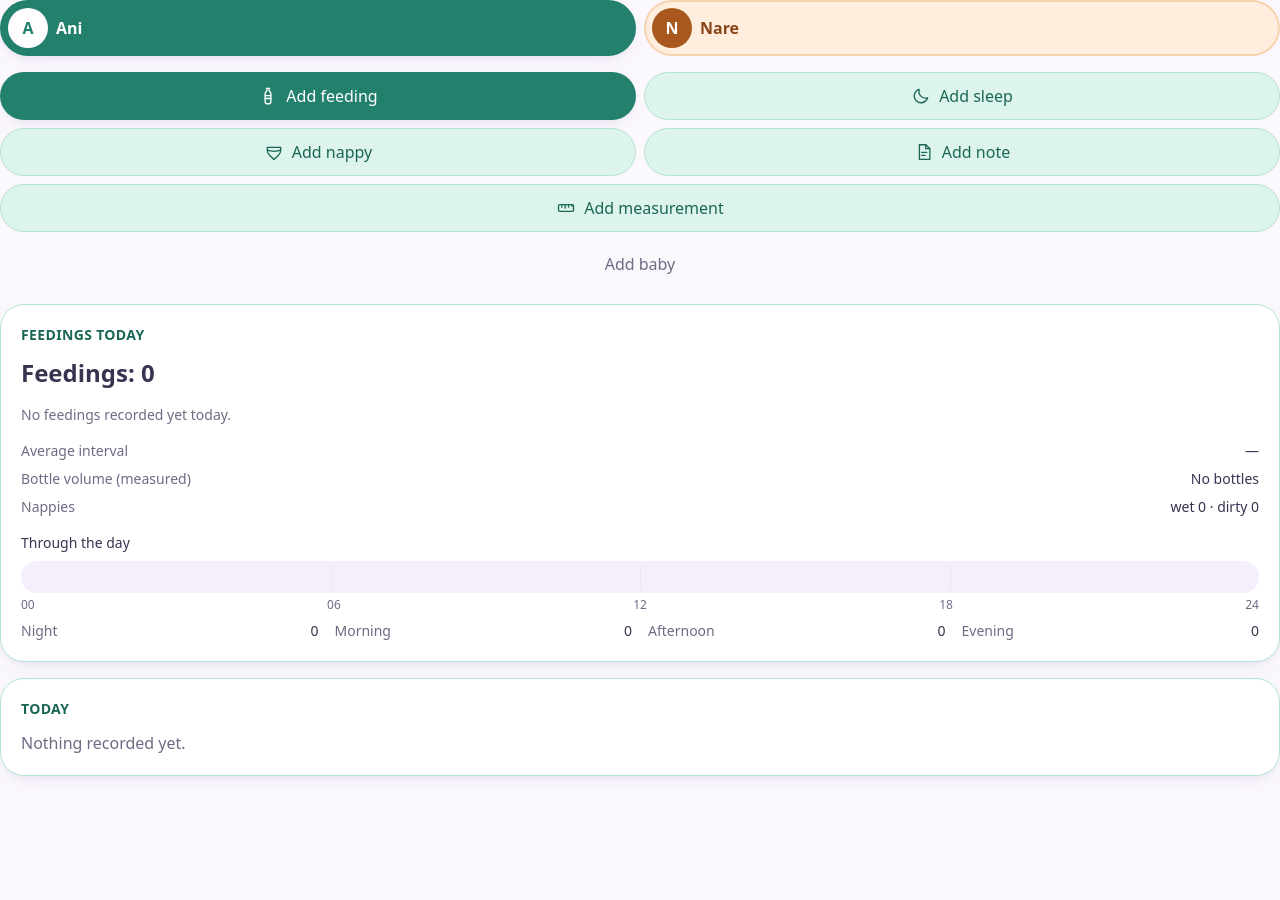
Test case: today’s day scope › shows an event created today once the list is refetched
Click the button "Add note" at [962, 152], box [644, 128, 1279, 176]
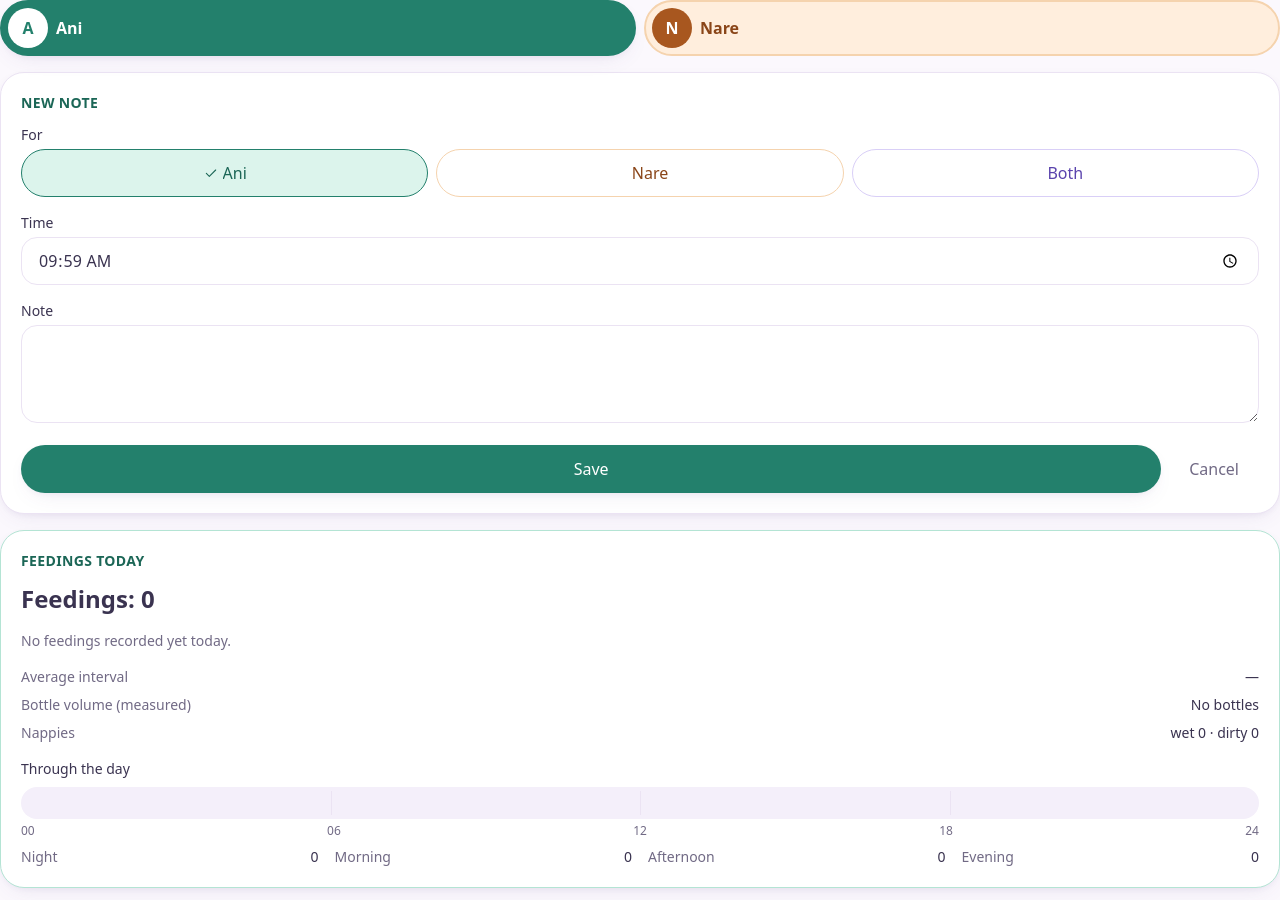
Type "Slept well" into the text box labelled "Note" at [640, 374], box [21, 325, 1259, 423]
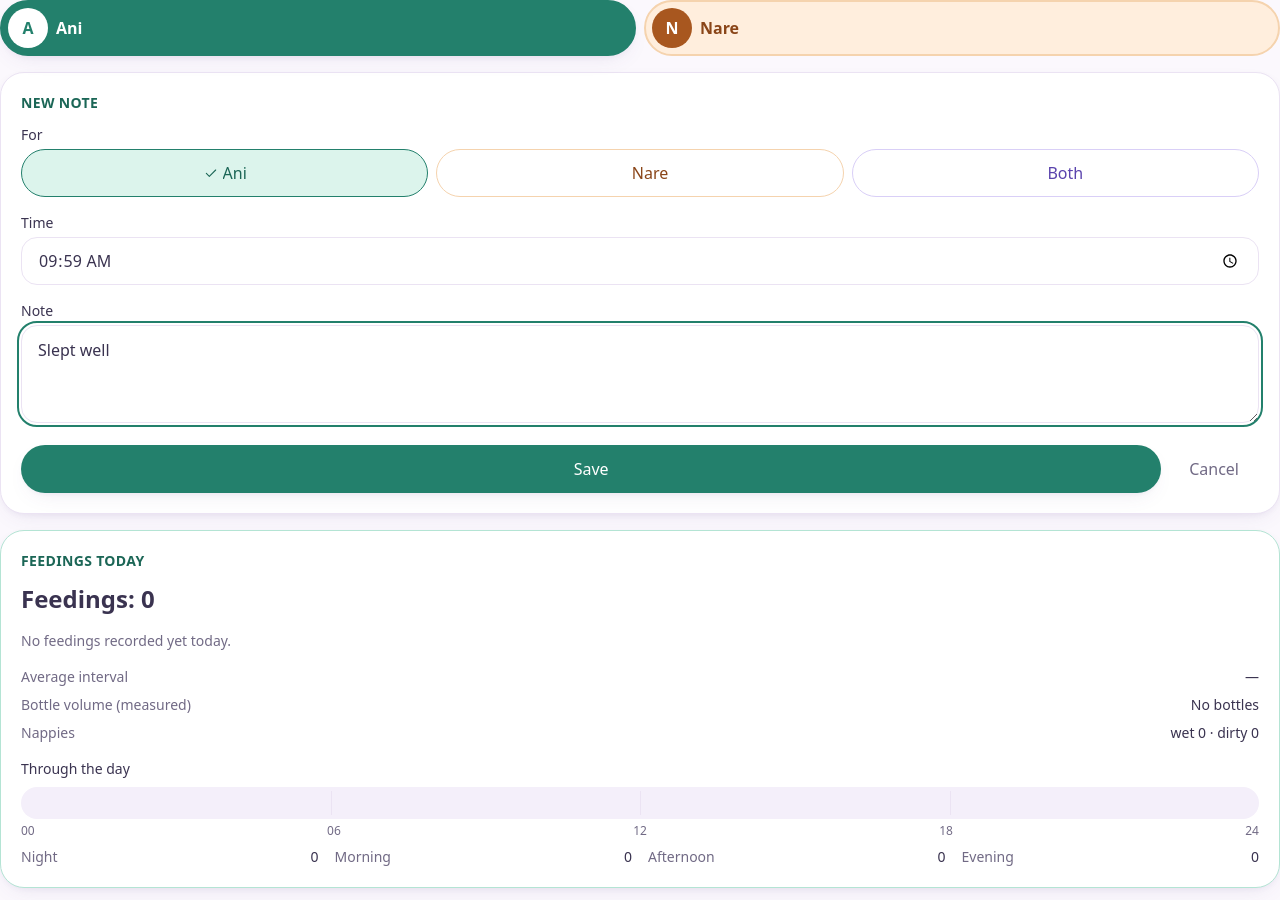
Click the button "Save" at [591, 469], box [21, 445, 1161, 493]
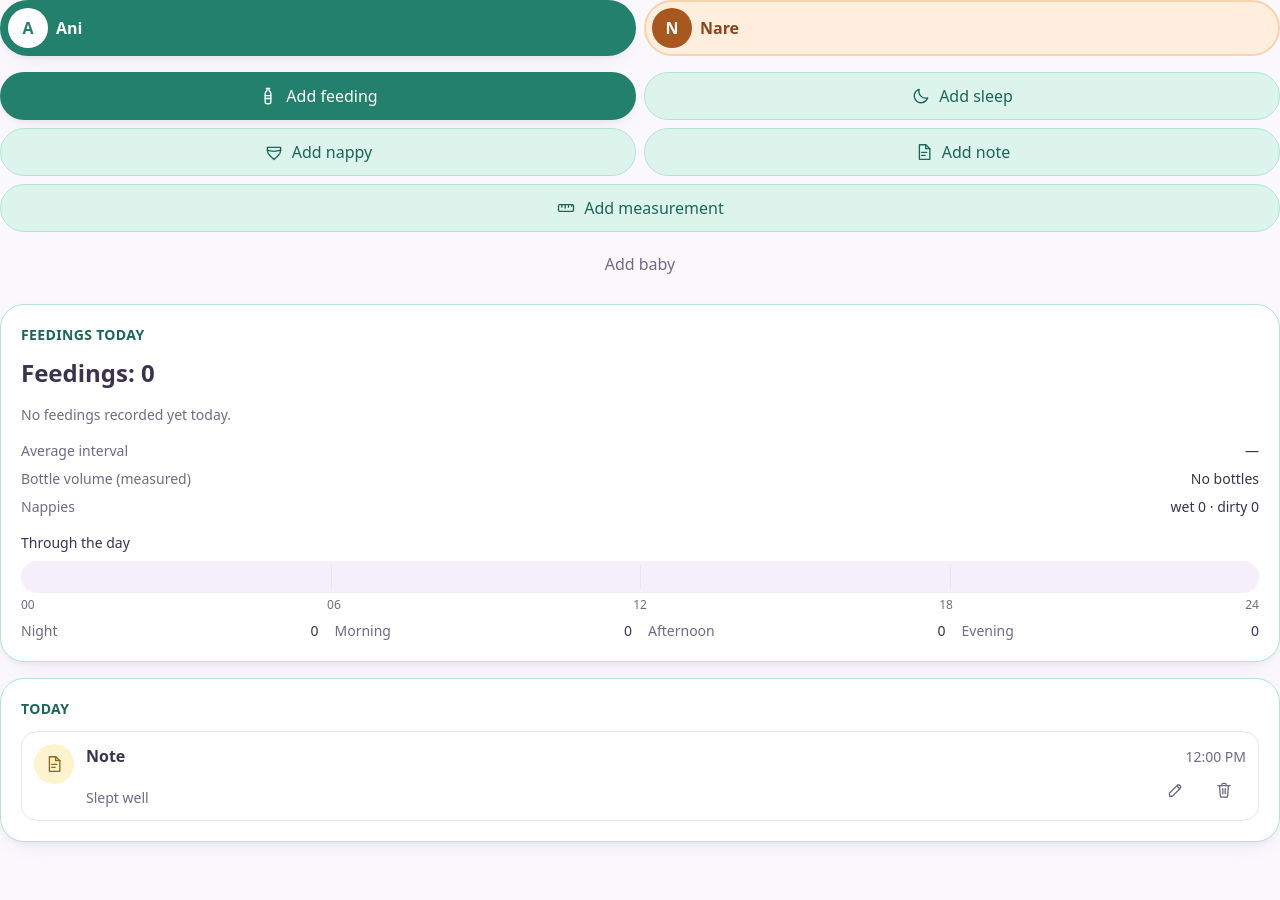
expect the text "Slept well" is shown: met, box [86, 788, 149, 808]
